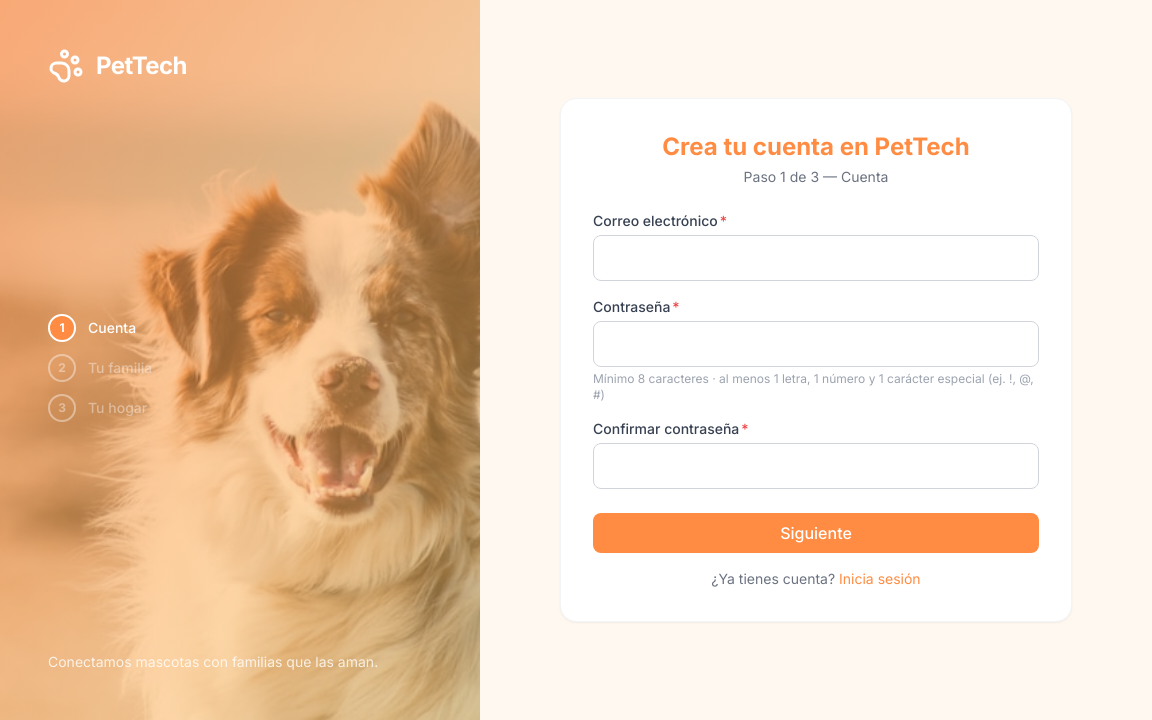
Test: RegisterPage (paso 1) — validación del campo contraseña › shows complexity error when password has no special character
The image size is (1152, 720).
Type "MiClave1" into the password field labelled "Contraseña*". click: (816, 344)
box: [593,321,1039,367]
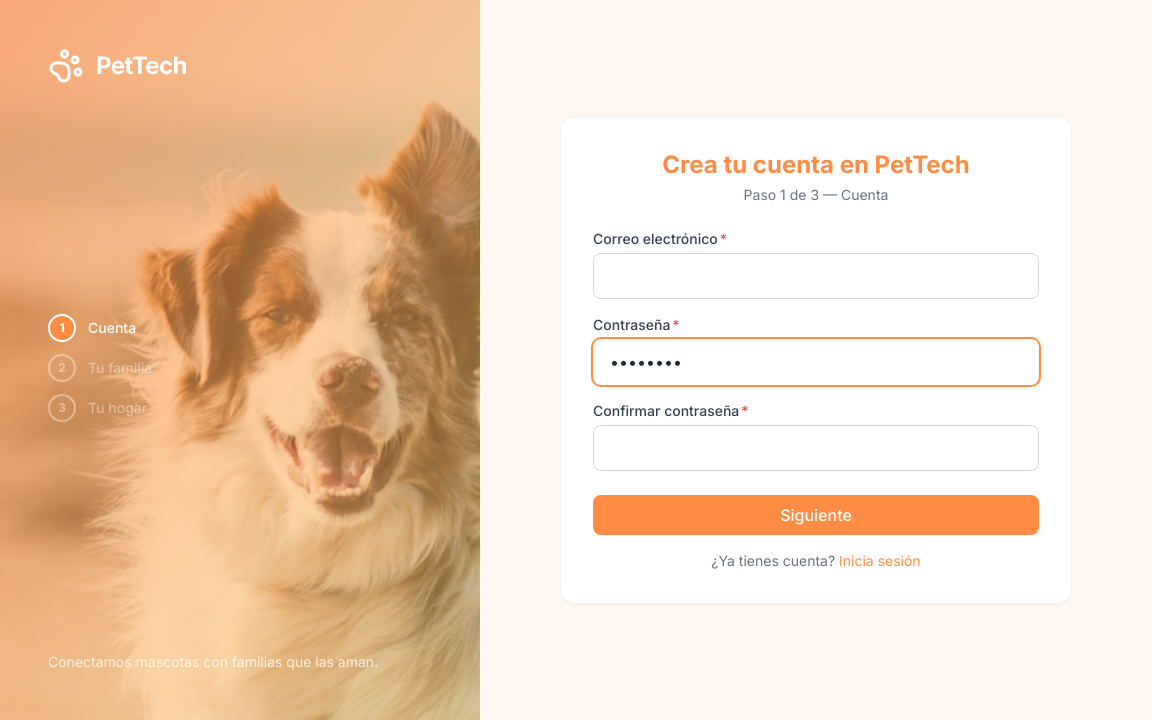
Press Tab
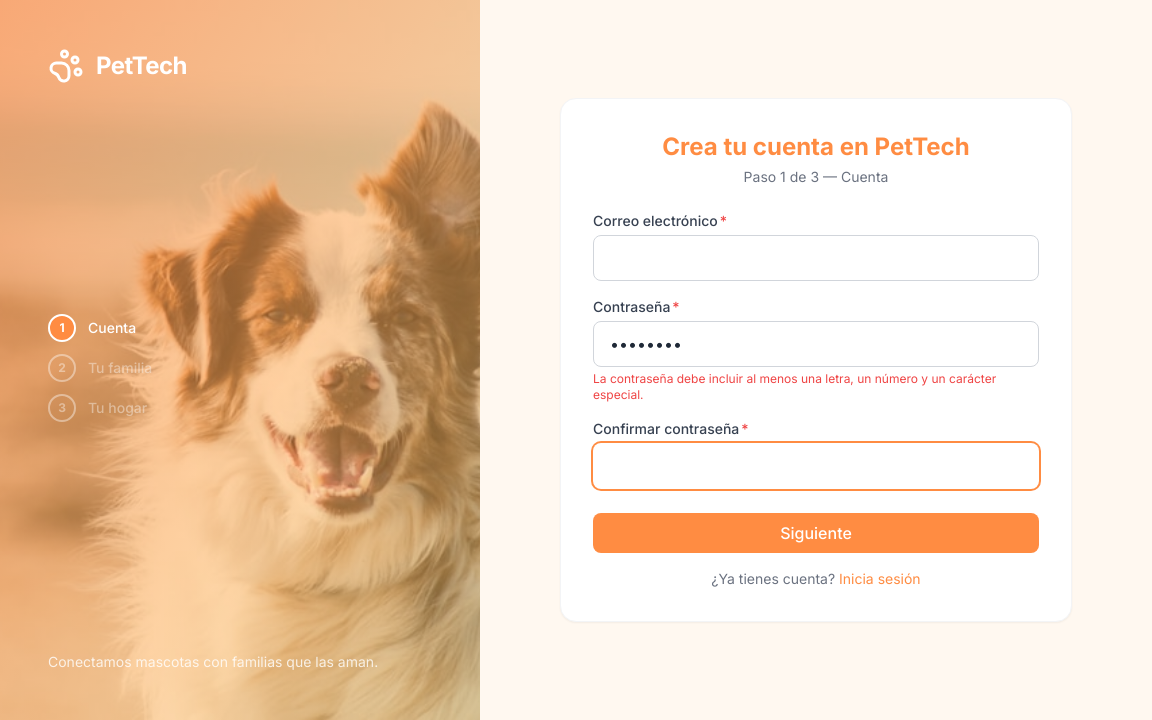
Now the text "La contraseña debe incluir al menos una letra, un número y un carácter especial." is shown, box [593,371,1039,403]
